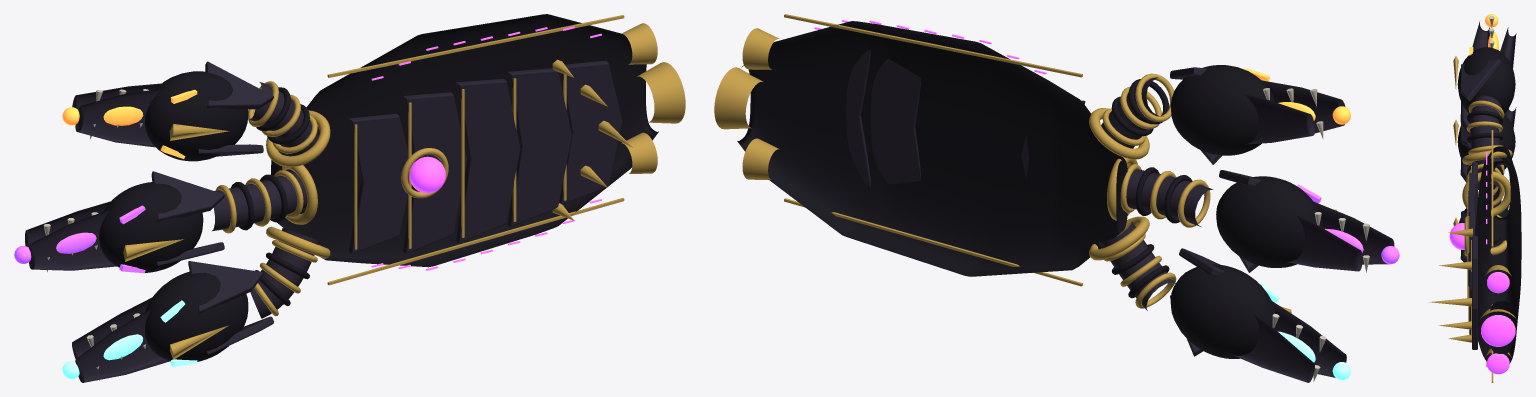
Rendered from cerberus.glb.
3 renders of one model, left to right at view 1: azimuth 30°, elevation 25°; view 2: azimuth 150°, elevation 25°; view 3: azimuth 270°, elevation 25°, orthographic. The views are drawn at different scales.
Visible parts, largest first — view 1: hull, armor_2, armor_3, armor_0, armor_1, skull_C, skull_L, skull_R, armor_4, snout_R, snout_C, snout_L (+27 smaller); view 2: hull, skull_R, skull_C, skull_L, armor_3, jaw_R, jaw_C, jaw_L, armor_4, neck_C, drive_C, snout_R (+16 smaller); view 3: hull, skull_L, neck_L, drive_C_glow, ear_L_a, armor_4, skull_C, collar_C, engine_L_glow, engine_R_glow, jaw_L, band_L (+33 smaller).
Boxes of the visible parts, x1,y1,x2,y2 form: hull: (271, 14, 658, 267); armor_2: (456, 79, 520, 242); armor_3: (507, 68, 571, 226); armor_0: (349, 113, 407, 253); armor_1: (403, 92, 467, 253); skull_C: (99, 182, 203, 272); skull_L: (145, 71, 248, 161); skull_R: (145, 271, 248, 361); armor_4: (559, 60, 622, 204); snout_R: (75, 307, 170, 382); snout_C: (29, 209, 116, 270); snout_L: (75, 88, 163, 147); hull: (737, 21, 1127, 276); skull_R: (1170, 264, 1276, 358); skull_C: (1216, 176, 1322, 267); skull_L: (1170, 65, 1275, 155); armor_3: (870, 59, 920, 184); jaw_R: (1232, 312, 1314, 382); jaw_C: (1286, 213, 1362, 271); jaw_L: (1242, 93, 1314, 144); armor_4: (846, 50, 870, 187); neck_C: (1126, 167, 1213, 226); drive_C: (714, 67, 763, 129); snout_R: (1272, 301, 1346, 377); hull: (1475, 146, 1521, 363); skull_L: (1457, 47, 1515, 113); neck_L: (1470, 95, 1502, 164); drive_C_glow: (1481, 315, 1515, 346); ear_L_a: (1460, 59, 1501, 101); armor_4: (1472, 236, 1477, 349); skull_C: (1457, 114, 1515, 169); collar_C: (1462, 171, 1510, 216); engine_L_glow: (1487, 272, 1509, 293); engine_R_glow: (1487, 353, 1509, 374); jaw_L: (1500, 27, 1516, 68); band_L: (1491, 130, 1493, 247).
Size of the model in its own units: 1164 by 489 by 192.
